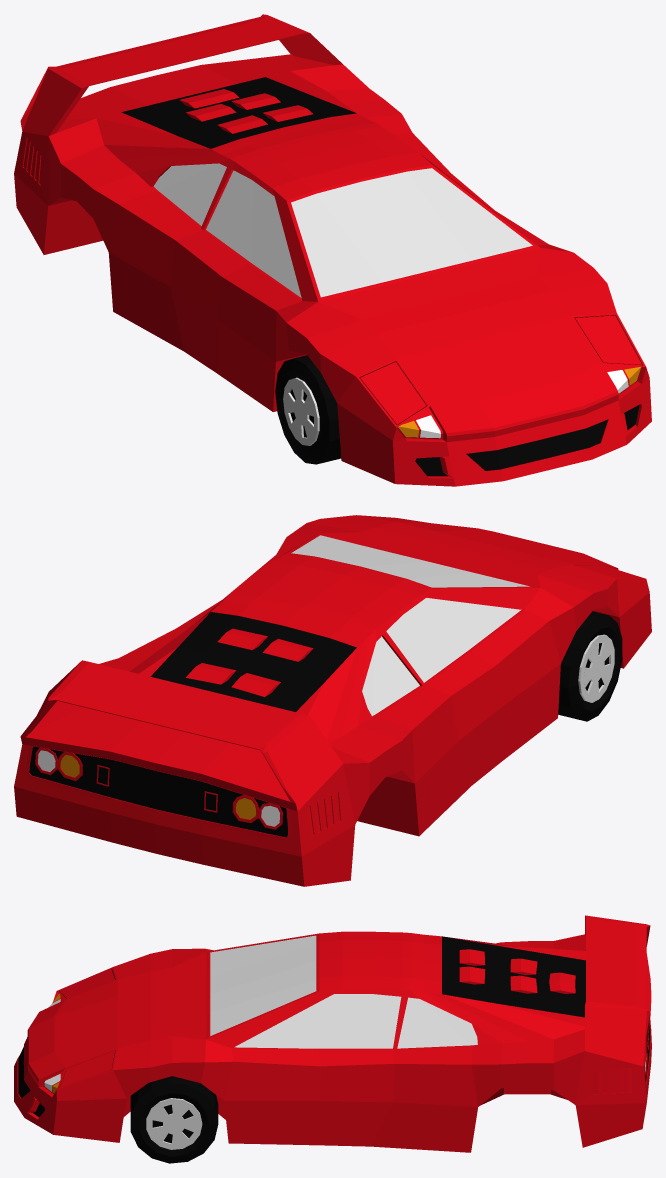
File: ferrari f40.fbx
3 renders of one model, top to bottom at view 1: azimuth 30°, elevation 25°; view 2: azimuth 150°, elevation 25°; view 3: azimuth 270°, elevation 25°, orthographic. The views are drawn at different scales.
Visible parts, largest first — view 1: Body, Wheel_FR; view 2: Body, Wheel_FR; view 3: Body, Wheel FL.
Boxes of the visible parts, bbox=[...] form: Body: bbox=[14, 14, 651, 486]; Wheel_FR: bbox=[275, 355, 341, 464]; Body: bbox=[14, 515, 651, 886]; Wheel_FR: bbox=[558, 611, 622, 721]; Body: bbox=[14, 915, 651, 1152]; Wheel FL: bbox=[130, 1076, 218, 1163].
Size of the model in its own units: 142 by 80.56 by 314.
